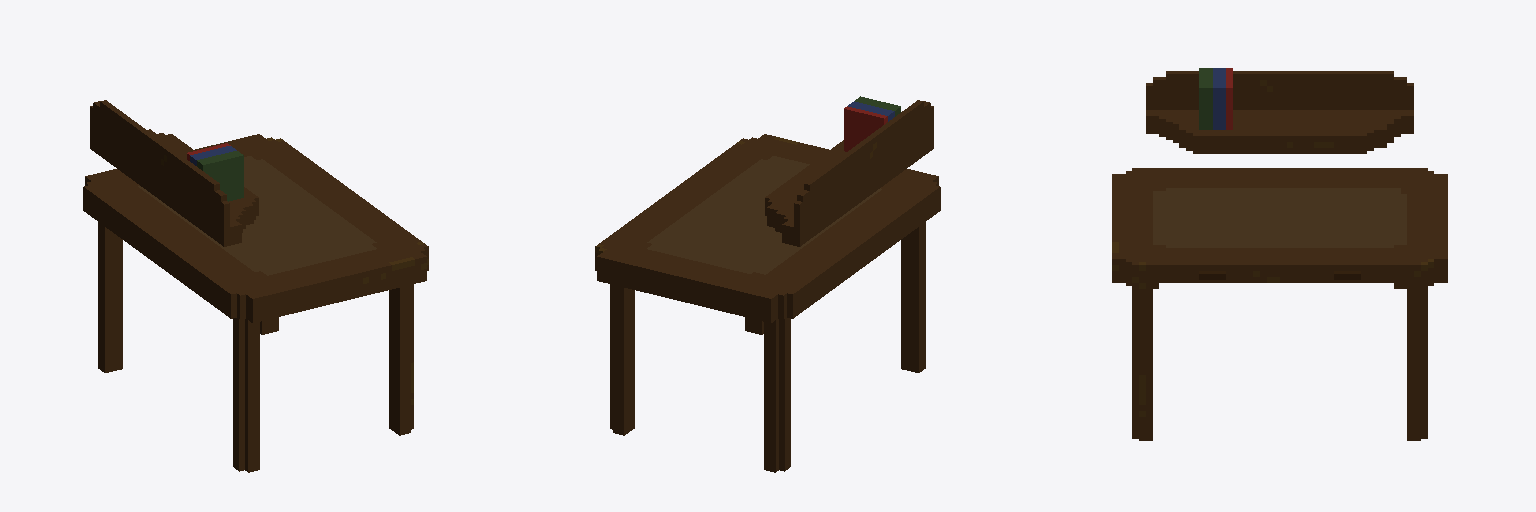
The picture shows the model from 3 angles: view 1: azimuth 30°, elevation 25°; view 2: azimuth 150°, elevation 25°; view 3: azimuth 270°, elevation 25°; orthographic projection.
Parts seen in each view (by area): view 1: object 1; view 2: object 1; view 3: object 1.
Part boxes in pixels (bbox=[...]): object 1: bbox=[83, 100, 428, 472]; object 1: bbox=[595, 96, 940, 472]; object 1: bbox=[1112, 68, 1447, 440].
Bounding box in the file's own units: 3.4 × 4.7 × 5.
Materials: 1 (1 with a texture image).